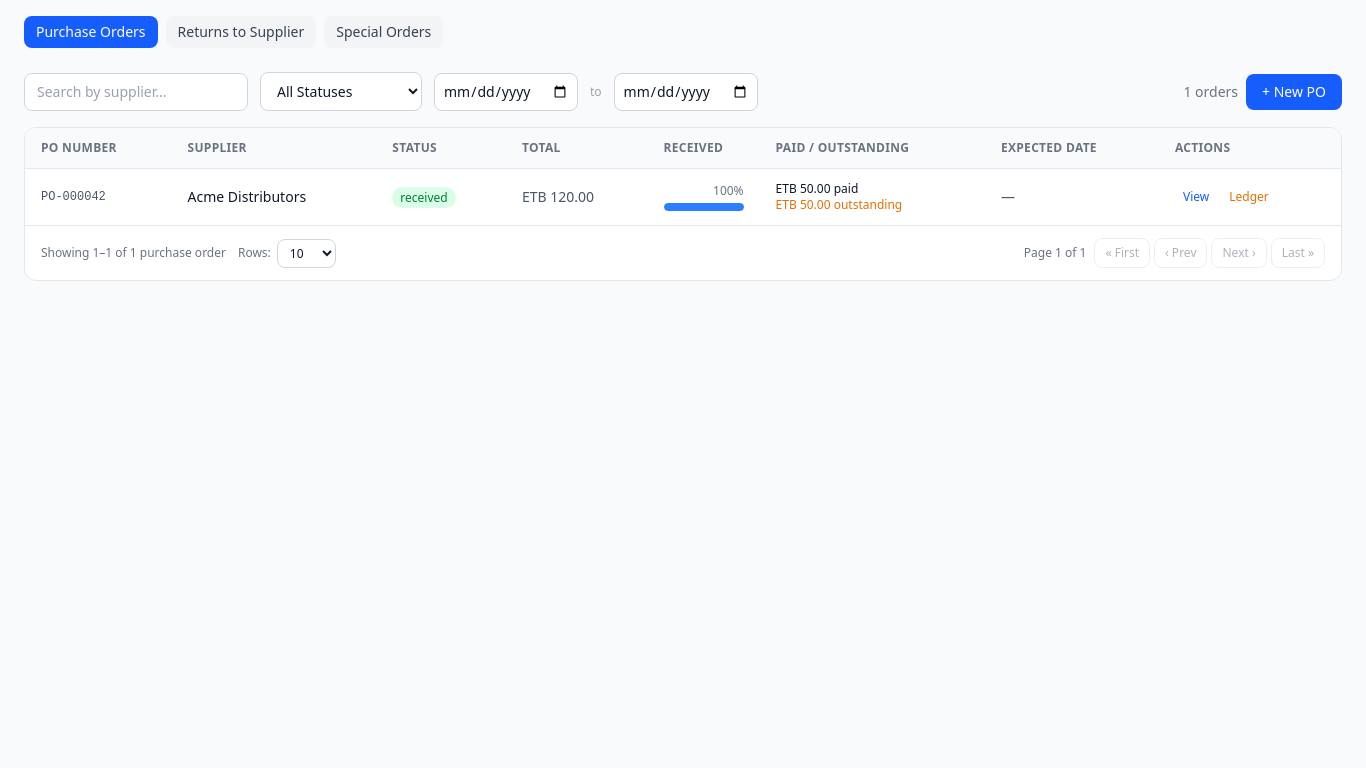
it: the order's page (1a) › shows what went back on each line and offers Return to Supplier to the receiving branch's buyers (was: neither)
Check: the text "Acme Distributors" is shown, box x1=172 y1=168 x2=376 y2=225
Step 1. Click the button "View" → (1196,197), box x1=1175 y1=185 x2=1217 y2=209
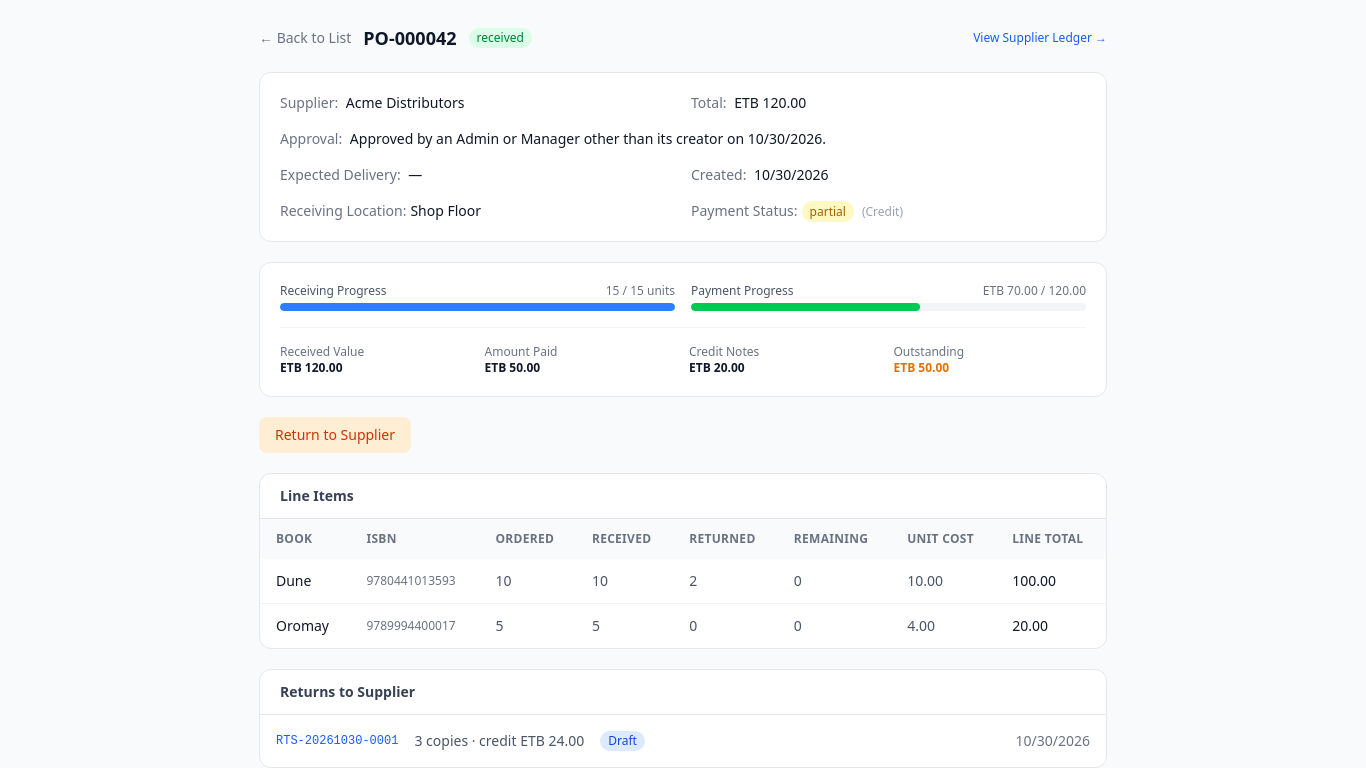
Check: the heading "Line Items" is shown, box x1=280 y1=486 x2=354 y2=505
Check: the cell "2" is shown, box x1=673 y1=559 x2=778 y2=604
Check: the column heading "Returned" is shown, box x1=673 y1=519 x2=778 y2=559
